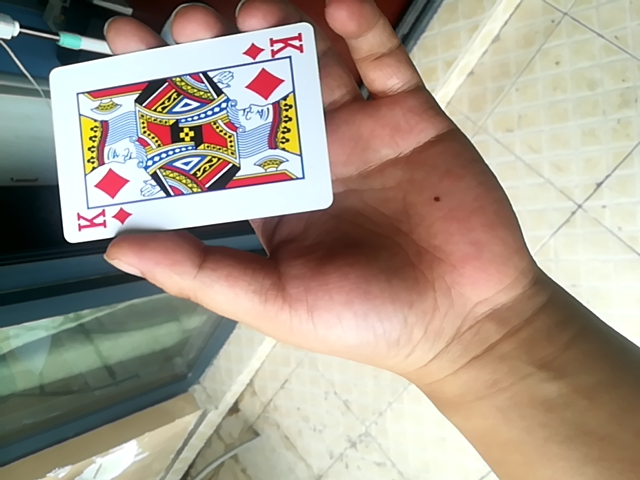fk k: (43, 21, 334, 249)
